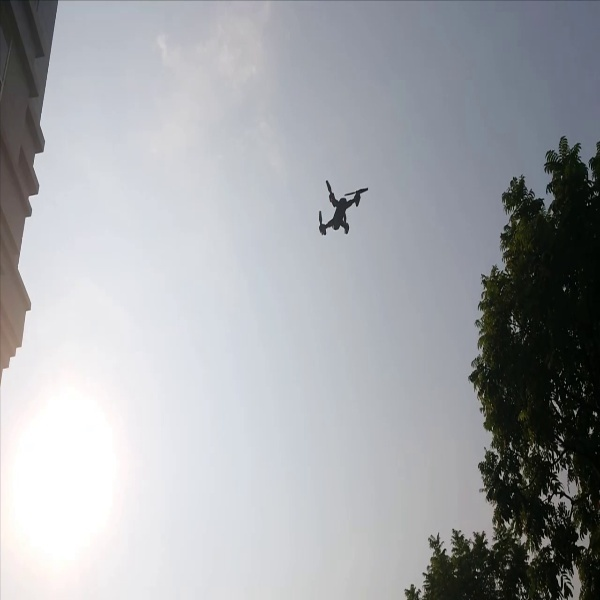drone: (301, 163, 373, 240)
